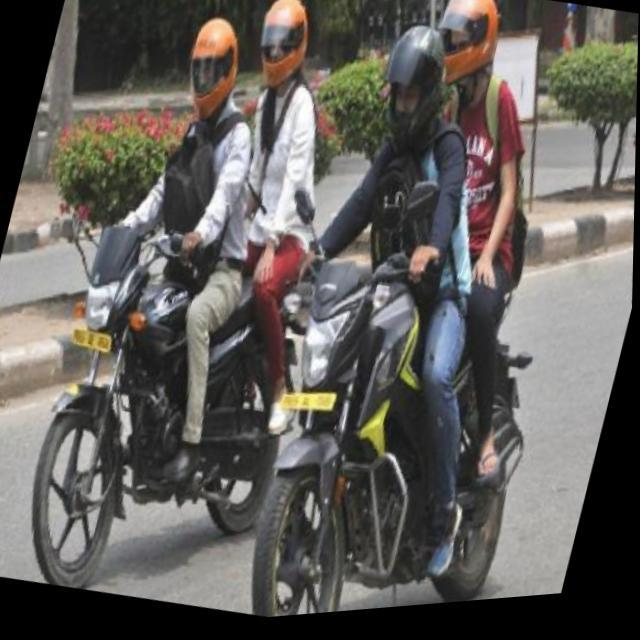Helmet: (380, 19, 456, 148), (180, 12, 250, 124), (427, 0, 506, 85), (252, 0, 316, 95)
